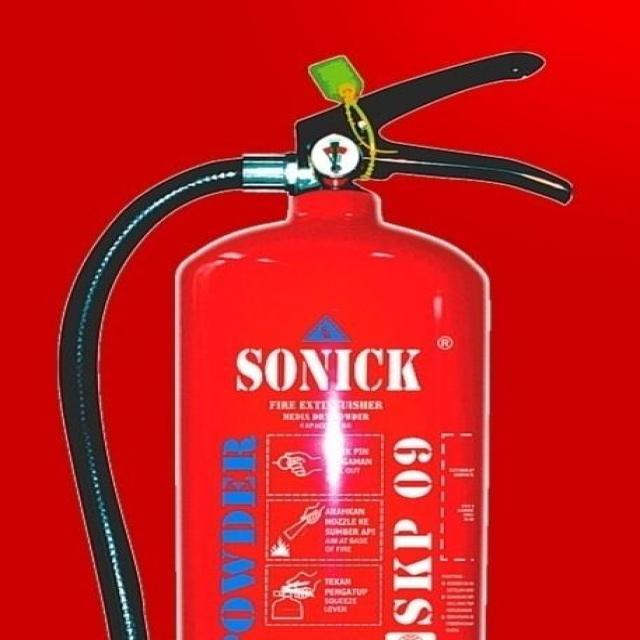fire_extinguisher: (48, 45, 575, 639)
